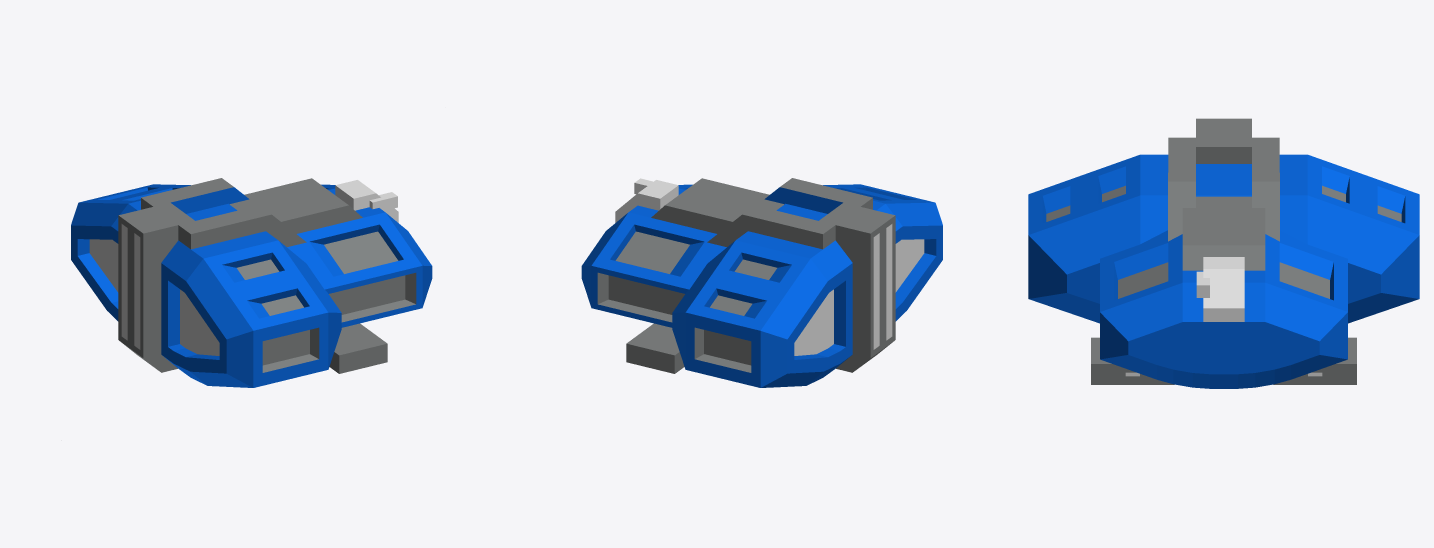
Rendered from blauvogel-barol-role.fbx.
The picture shows the model from 3 angles, left to right: view 1: azimuth 30°, elevation 25°; view 2: azimuth 150°, elevation 25°; view 3: azimuth 270°, elevation 25°; orthographic projection. The views are drawn at different scales.
Parts seen in each view (by area): view 1: Cube.001, Cube.002; view 2: Cube.001, Cube.002; view 3: Cube.001, Cube.002.
Part boxes in pixels (<box>): Cube.001: <box>71,178,432,387</box>; Cube.002: <box>329,323,387,373</box>; Cube.001: <box>581,178,942,387</box>; Cube.002: <box>626,323,684,373</box>; Cube.001: <box>1028,118,1419,388</box>; Cube.002: <box>1091,337,1356,384</box>.
Size of the model in its own units: 200 by 200 by 200.
